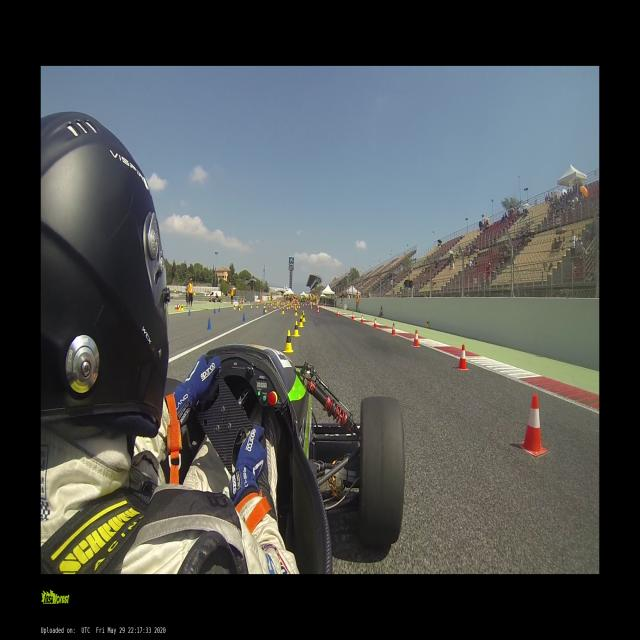blue_cone: (207, 317, 211, 330), (242, 312, 245, 322), (263, 308, 266, 315), (213, 308, 216, 314), (188, 309, 190, 316), (218, 307, 220, 312)
orange_cone: (517, 394, 548, 456), (457, 344, 469, 370), (412, 330, 420, 348), (390, 323, 396, 336), (373, 318, 377, 329), (361, 316, 364, 324), (316, 308, 320, 314), (351, 313, 354, 320), (174, 304, 177, 310), (278, 304, 280, 310), (337, 311, 339, 316), (178, 305, 180, 310), (286, 306, 288, 311), (292, 305, 294, 310), (269, 306, 270, 310), (311, 306, 312, 310), (273, 306, 274, 310)
yellow_cone: (283, 330, 293, 352), (292, 321, 300, 336), (298, 316, 304, 327), (301, 312, 306, 322), (426, 320, 429, 328), (233, 304, 236, 310), (302, 310, 304, 318), (282, 308, 284, 314), (238, 305, 240, 311), (250, 304, 253, 308), (265, 307, 267, 312), (182, 305, 184, 310), (295, 310, 297, 315), (256, 304, 258, 308), (241, 304, 242, 308)
